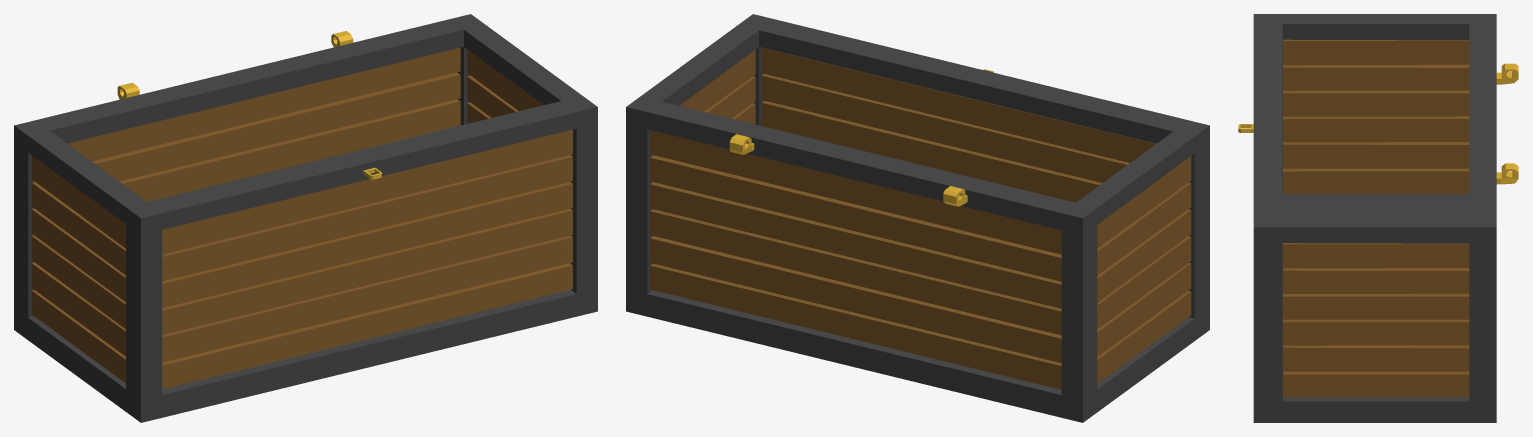
File: Chest Base.fbx
3 renders of one model, left to right at view 1: azimuth 30°, elevation 25°; view 2: azimuth 150°, elevation 25°; view 3: azimuth 270°, elevation 25°, orthographic. The views are drawn at different scales.
Visible parts, largest first — view 1: Chest Low Poly; view 2: Chest Low Poly; view 3: Chest Low Poly.
Part boxes in pixels (x1,y1,x2,y2): Chest Low Poly: (14,14,597,422); Chest Low Poly: (626,14,1209,422); Chest Low Poly: (1238,14,1518,422).
Size of the model in its own units: 167 by 72.91 by 92.65.
